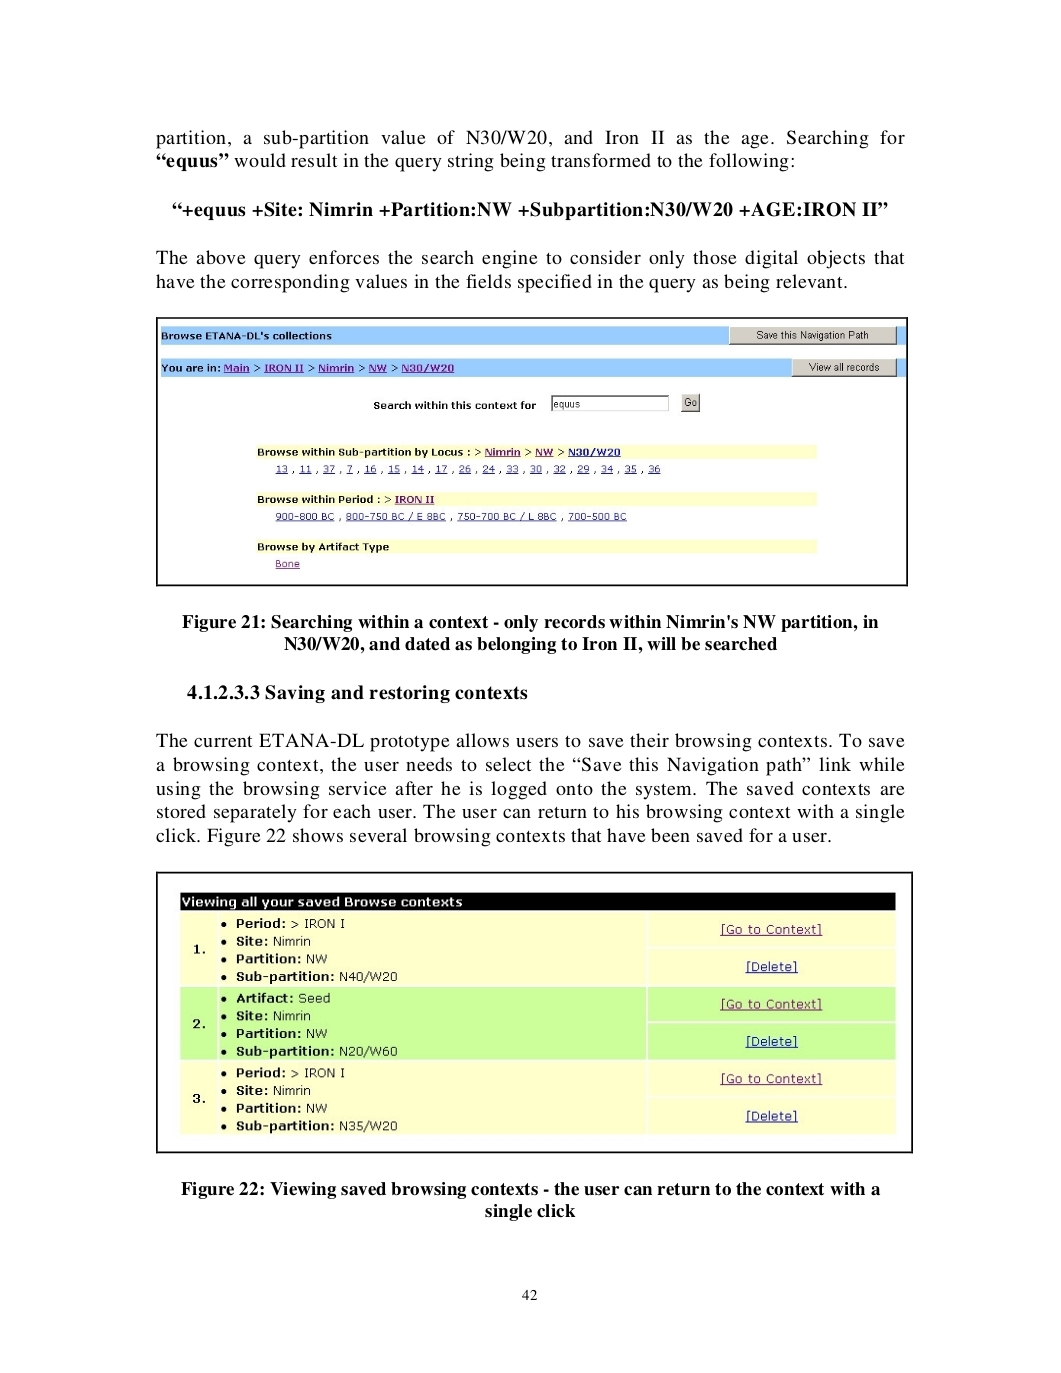figure: (156, 870, 912, 1153), (156, 315, 907, 587)
